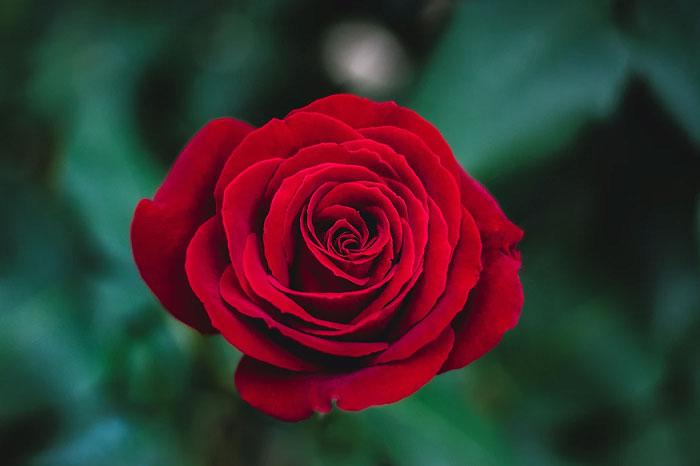rose: (129, 91, 526, 422)
